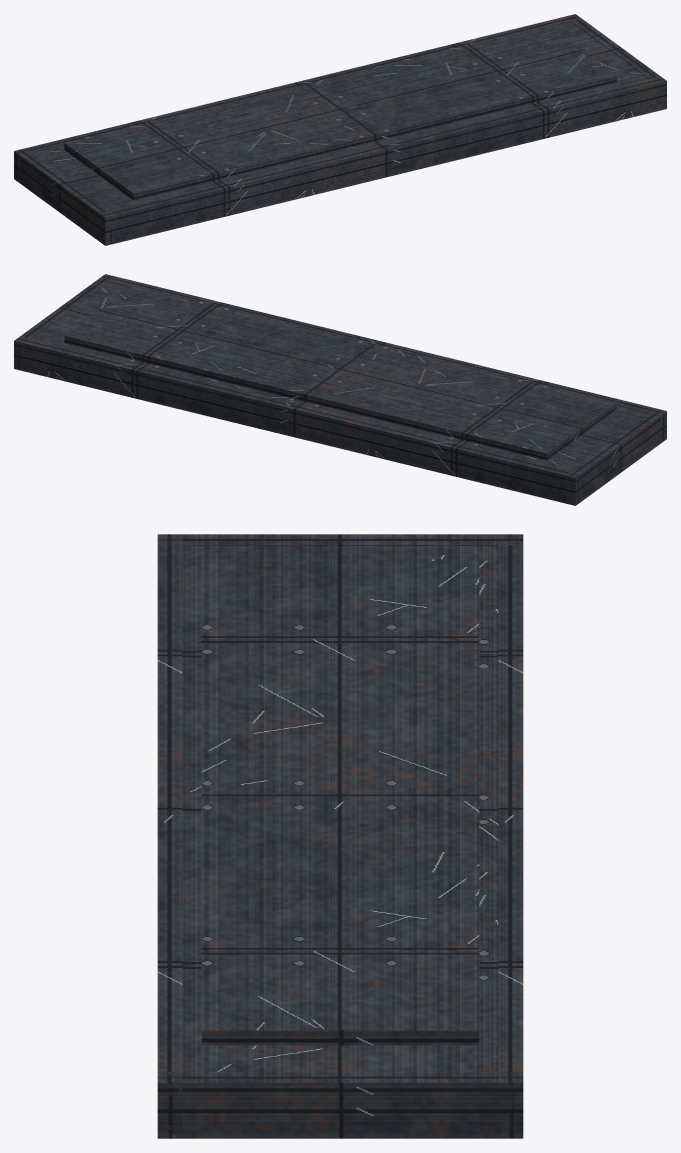
The model's file is ceiling_troffer_4tube_pbr.glb.
3 renders of one model, top to bottom at view 1: azimuth 30°, elevation 25°; view 2: azimuth 150°, elevation 25°; view 3: azimuth 270°, elevation 25°, orthographic. The views are drawn at different scales.
Visible parts, largest first — view 1: panel_luz_bombillos; view 2: panel_luz_bombillos; view 3: panel_luz_bombillos.
Part boxes in pixels (box(x1,y1,x2,y2)): panel_luz_bombillos: box(14, 14, 666, 245); panel_luz_bombillos: box(14, 274, 666, 505); panel_luz_bombillos: box(157, 534, 523, 1138).
Size of the model in its own units: 2.2 by 0.13 by 0.62.
Materials: 4 (2 with a texture image).
